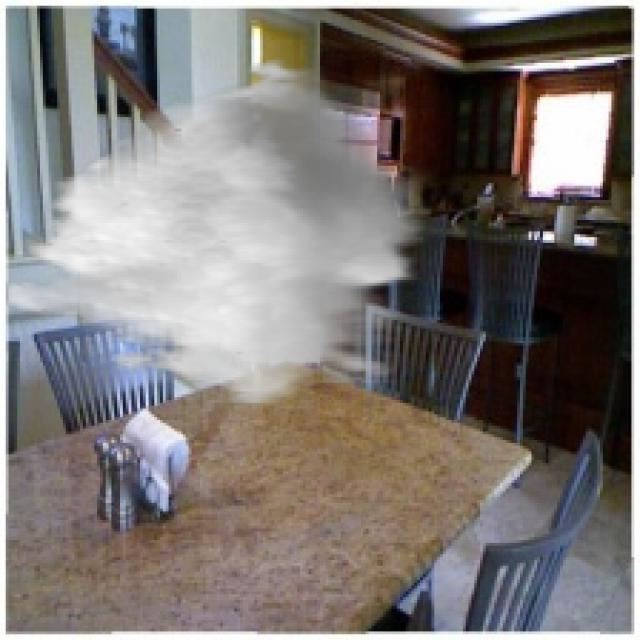smoke: (6, 51, 431, 406)
